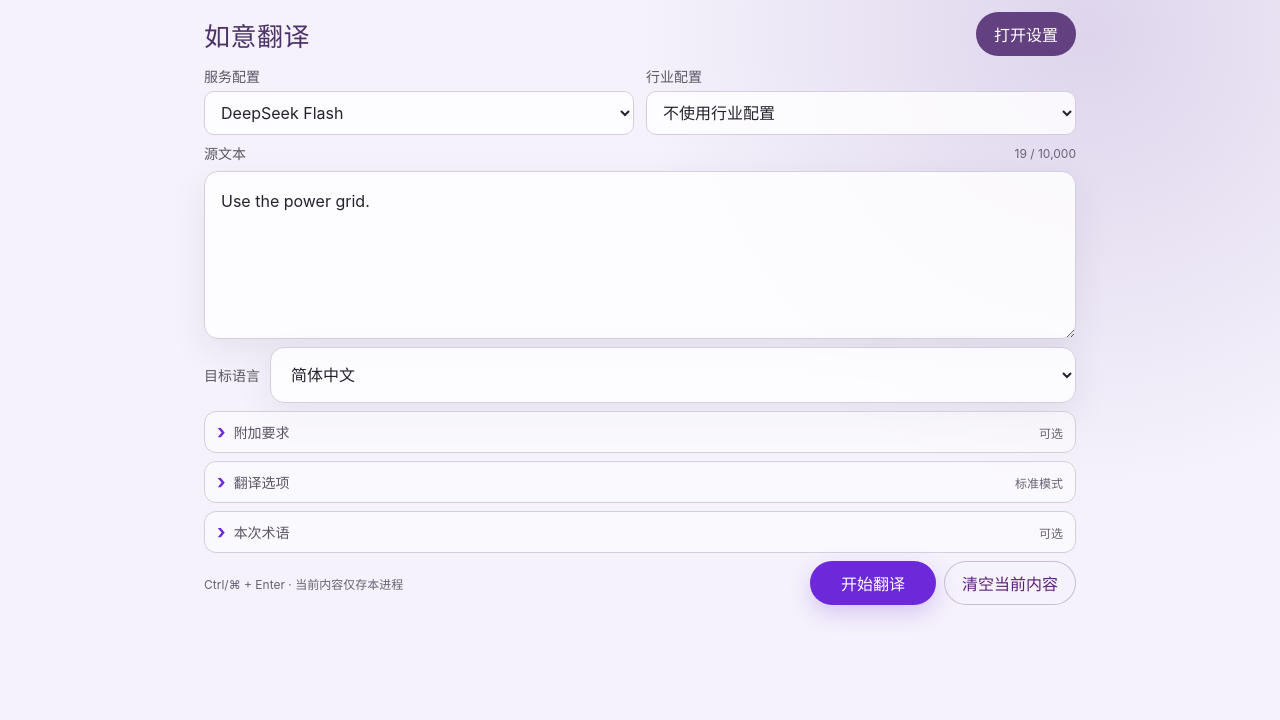
Scenario: ConfiguredTranslationPage terminology › shows strict conflicts and turns the user's choice into a task term
Click the button "开始翻译". click: (873, 583)
box: [810,561,936,605]
(page scrolled)
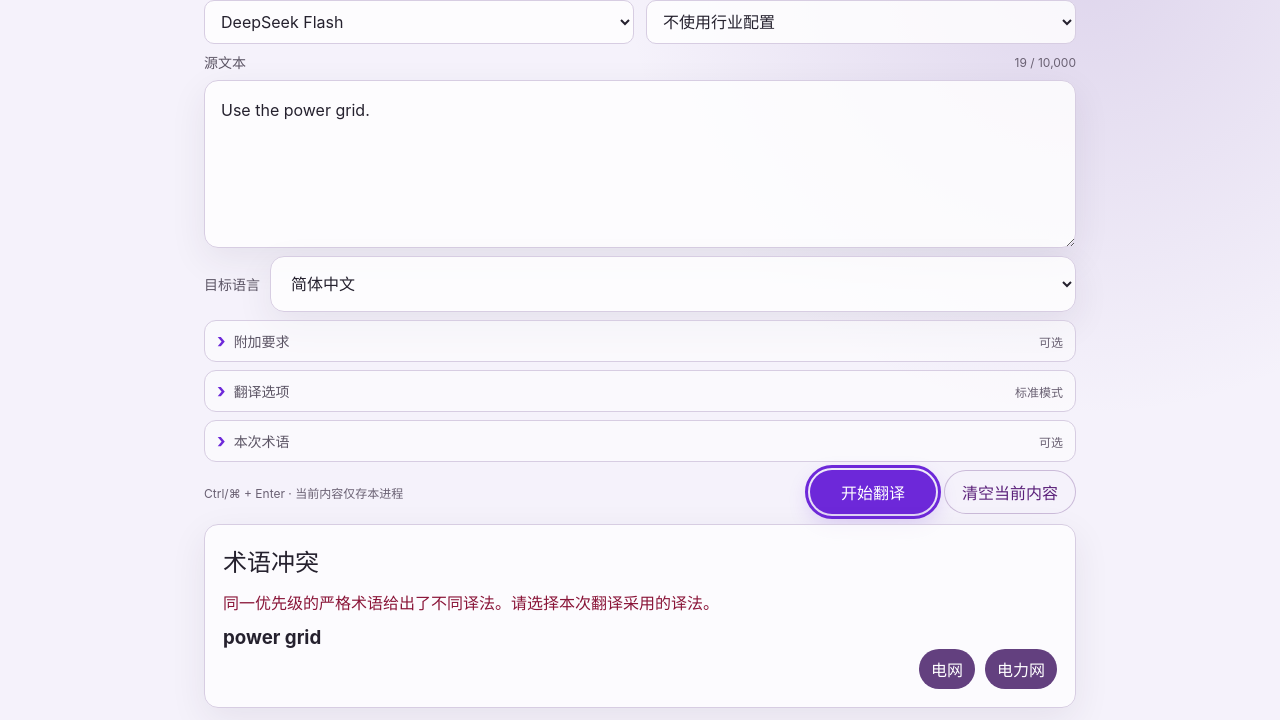
expect the heading "术语冲突" is shown: met, box [223,548,319,577]
Click the button with aria-label "使用译法 电网". click: (947, 669)
box: [919,649,975,689]
(page scrolled)
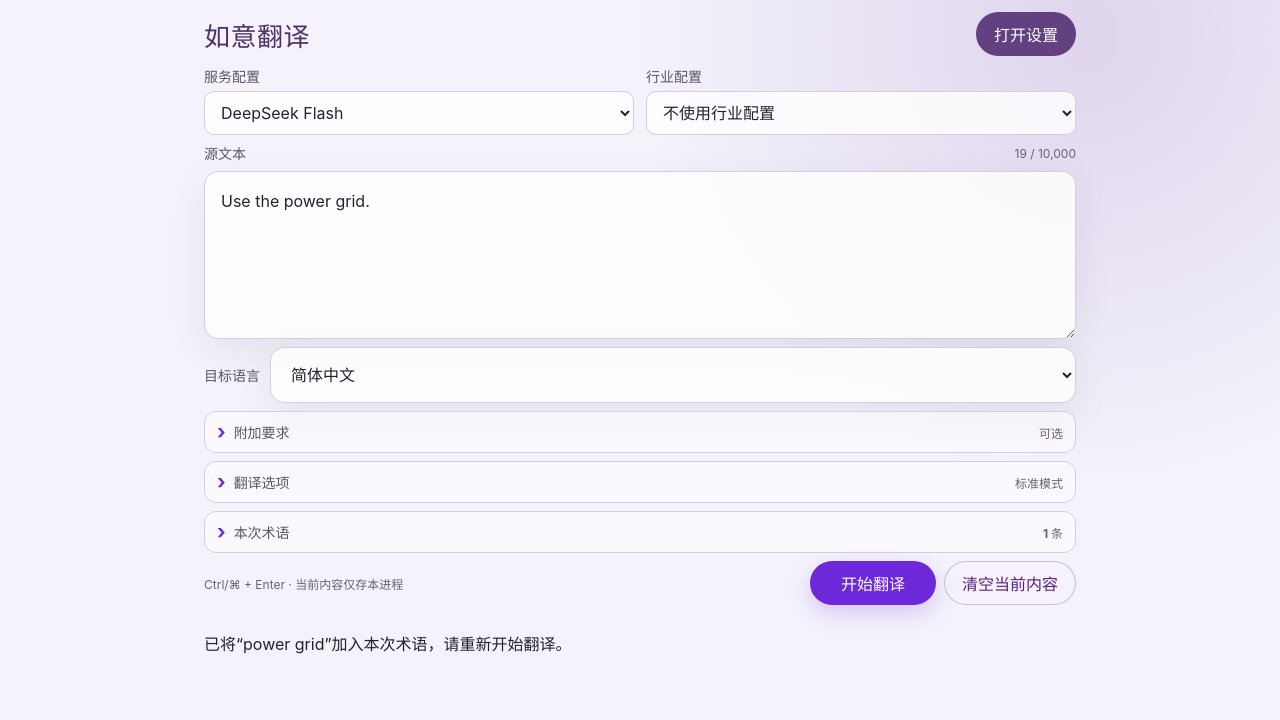
Click the text "本次术语". click: (262, 532)
box: [234,524,290,541]
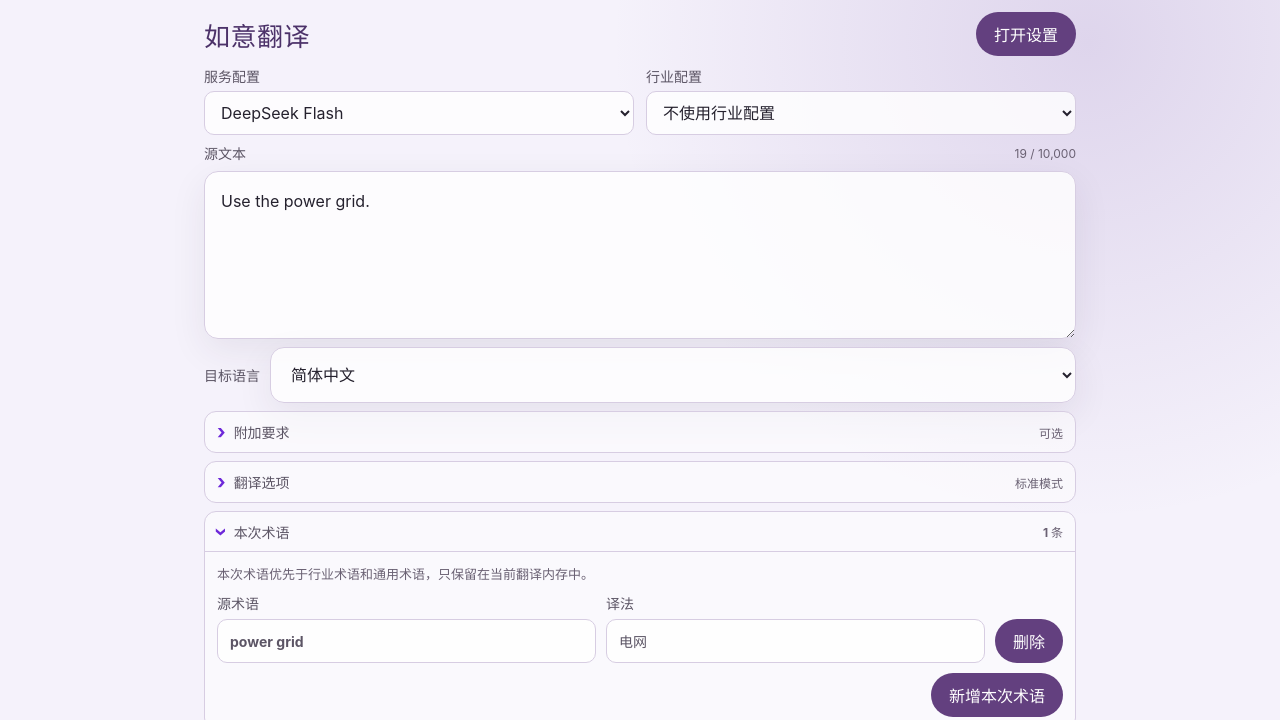
expect the heading "术语冲突" is not shown: met
expect the field named "本次术语源术语" holds "power grid": met, box [217,619,596,663]
expect the field named "本次术语译法" holds "电网": met, box [606,619,985,663]
